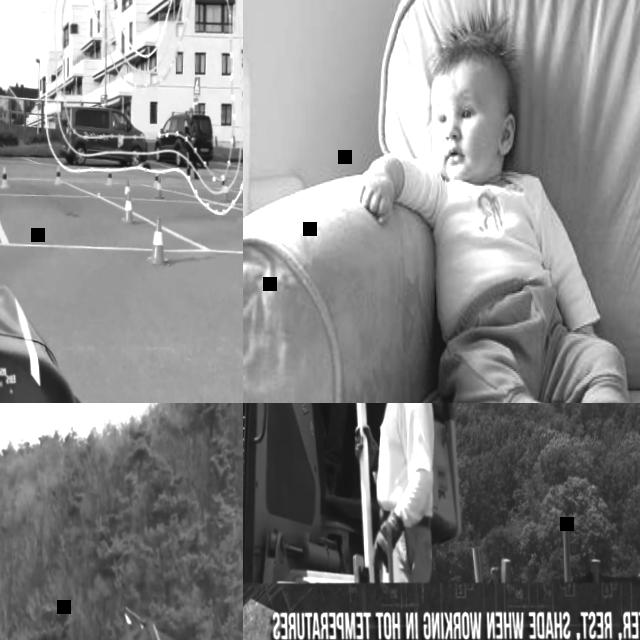NO-Hardhat: (428, 30, 512, 94), (188, 106, 194, 112)
NO-Mask: (434, 139, 485, 180), (188, 113, 191, 119)
NO-Safety Vest: (434, 178, 546, 319), (370, 403, 434, 515), (185, 117, 194, 138)
Person: (353, 26, 640, 403), (349, 403, 437, 581), (307, 403, 364, 485), (183, 105, 198, 178)
Safety Cone: (144, 215, 167, 265), (122, 193, 135, 223), (220, 174, 229, 206), (153, 173, 162, 199), (122, 177, 132, 200), (0, 161, 8, 189), (152, 165, 160, 189), (53, 162, 61, 185), (105, 164, 112, 185)
vehicle: (243, 403, 467, 582), (0, 258, 243, 403), (57, 101, 148, 167), (153, 104, 213, 161)
